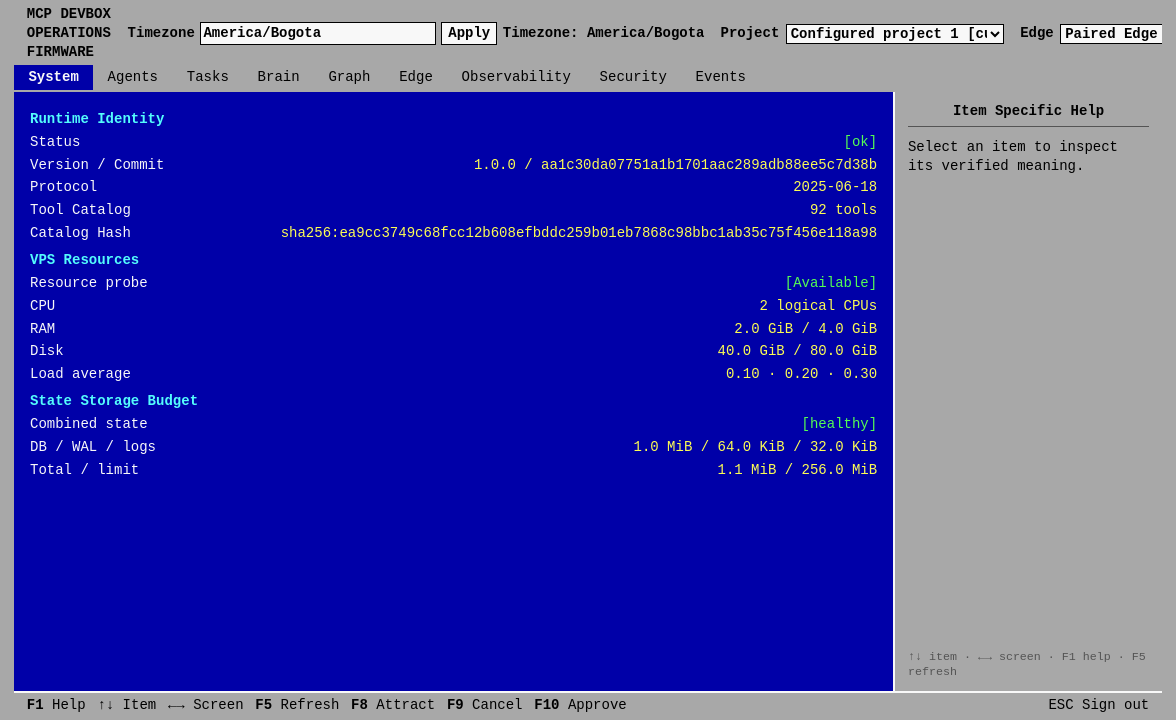
Test: Neo-BIOS operations firmware › renders current process separately from every durable activity window
Expected: the text "92 tools" is shown, [810, 201, 877, 220]
Step 1. Click the tab "Agents" → click(133, 78), box [93, 65, 172, 90]
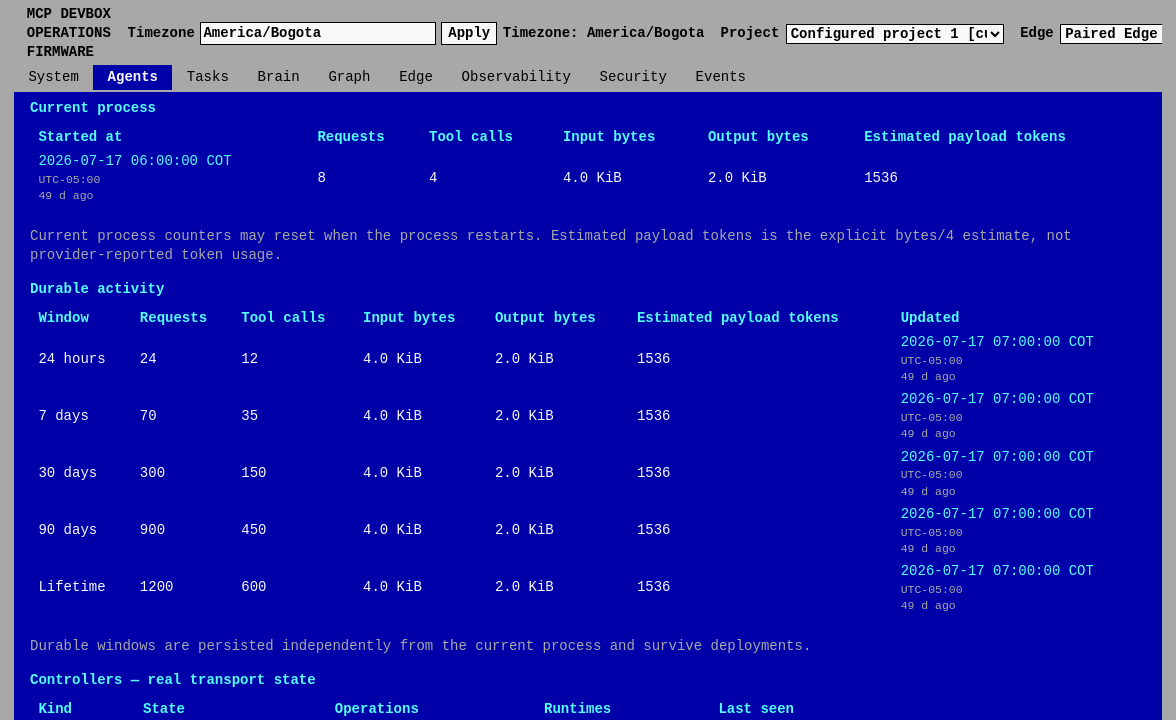
Expected: the heading "Current process" is shown, [30, 100, 156, 116]
Expected: the heading "Durable activity" is shown, [30, 281, 164, 297]
Expected: the row that starts with "2026-07-17 06:00:00 COT" is shown, [30, 149, 1146, 207]
